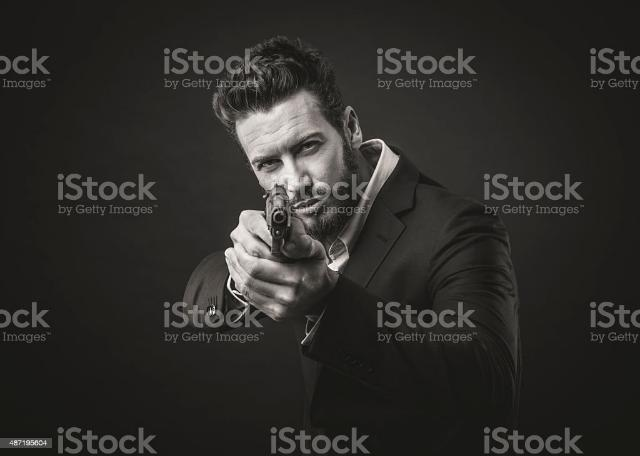handgun: (260, 180, 296, 266)
